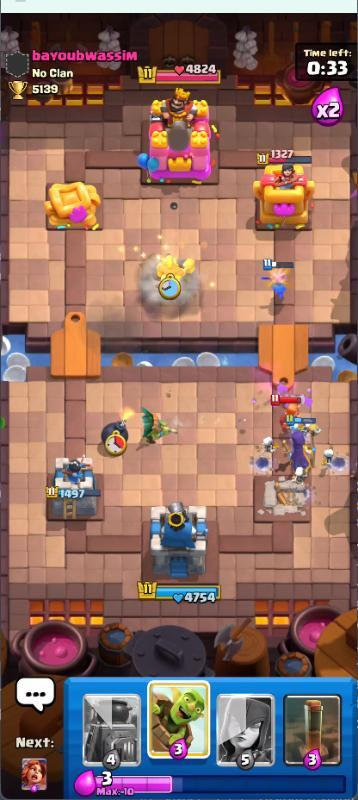enemy_bomb: (94, 404, 135, 455)
enemy_valkyrie: (268, 386, 301, 423)
player_dart_goblin: (134, 403, 181, 451)
player_skeletons: (256, 433, 279, 456), (317, 444, 338, 469), (289, 464, 312, 485)
player_valkyrie: (252, 255, 302, 301)
player_witch: (283, 416, 318, 478)
